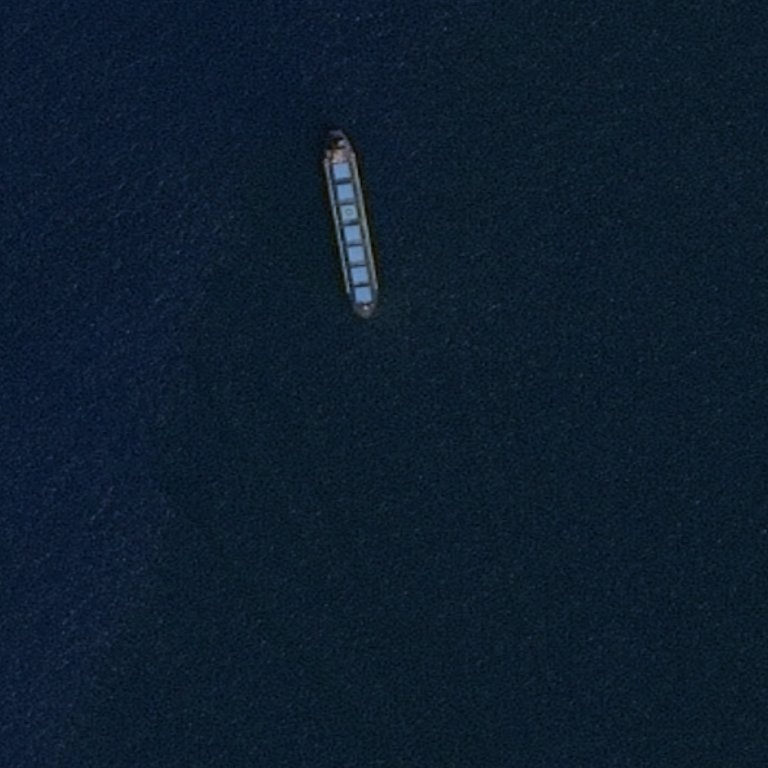ship: (322, 131, 378, 316)
